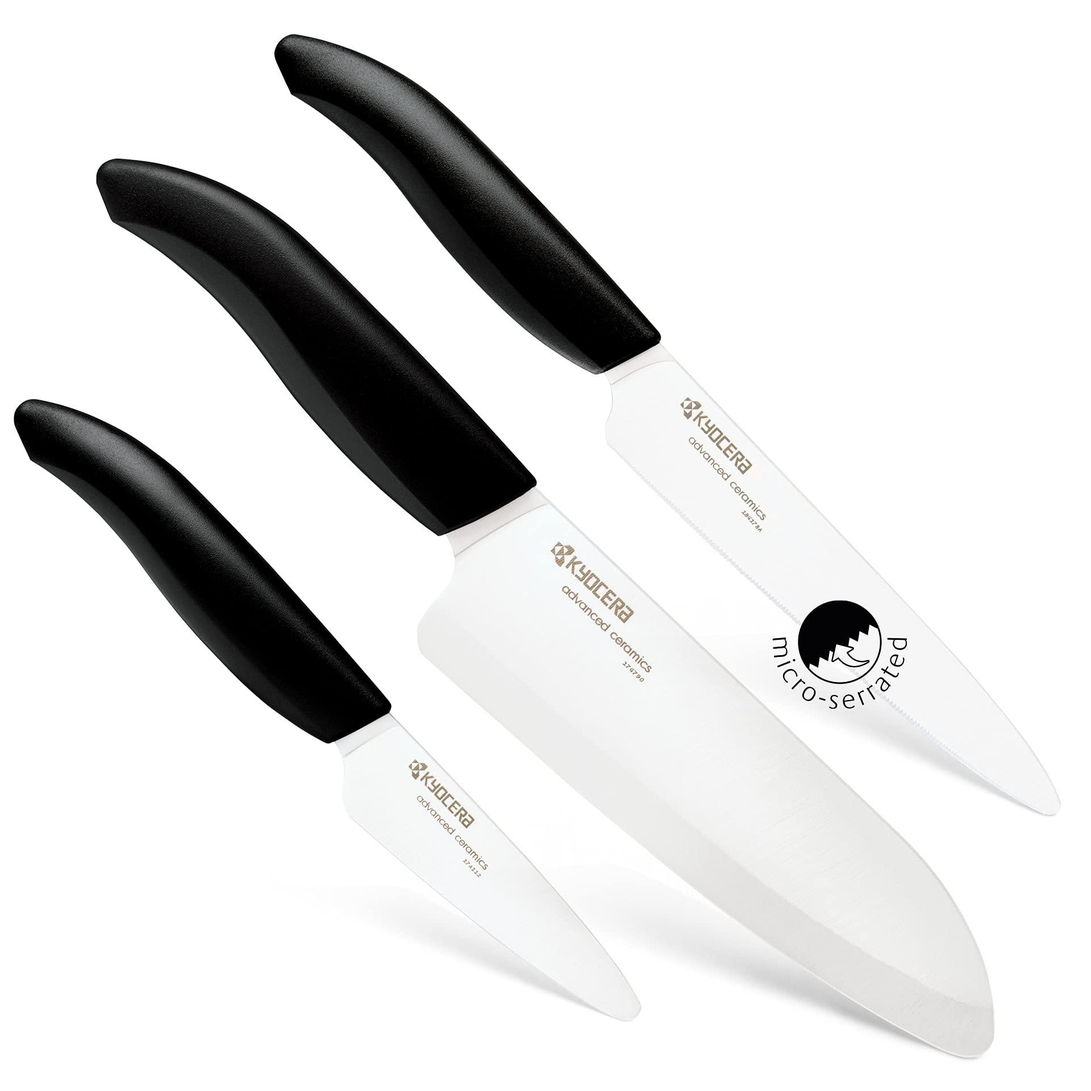Knife: (99, 162, 996, 1055), (277, 37, 1060, 820), (17, 401, 641, 1019)
